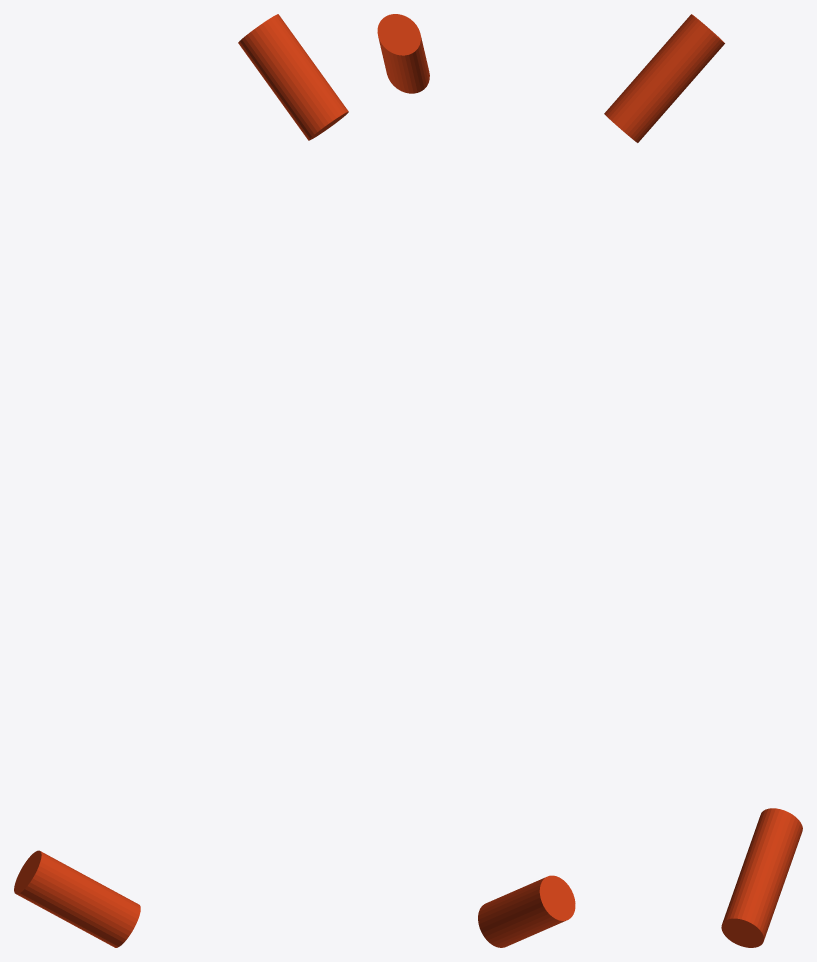
The picture shows the model from 3 angles, left to right: view 1: azimuth 30°, elevation 25°; view 2: azimuth 150°, elevation 25°; view 3: azimuth 270°, elevation 25°; orthographic projection. The views are drawn at different scales.
Bounding box in the file's own units: 0.1453 × 0.4868 × 0.0874.
